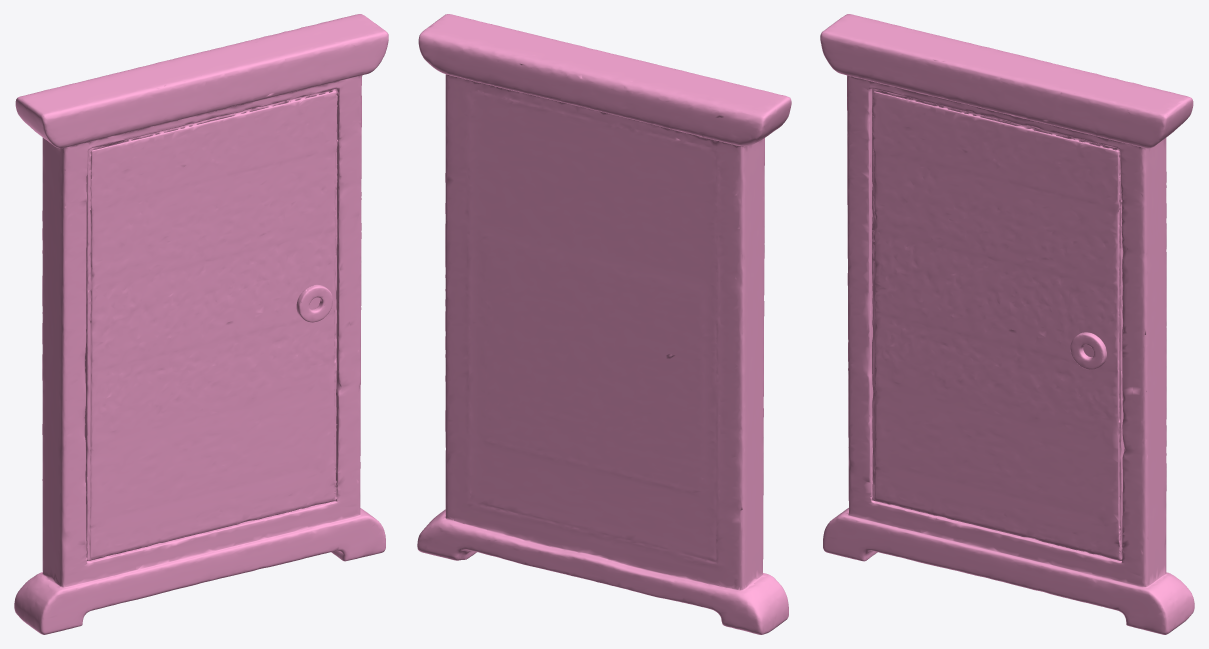
File: cdoor.glb
3 views of the same model, side by side, from view 1: azimuth 30°, elevation 25°; view 2: azimuth 150°, elevation 25°; view 3: azimuth 330°, elevation 25° (orthographic).
Parts seen in each view (by area): view 1: Mesh_0; view 2: Mesh_0; view 3: Mesh_0.
Part boxes in pixels (<box>): Mesh_0: <box>14,14,388,634</box>; Mesh_0: <box>417,14,791,634</box>; Mesh_0: <box>820,14,1194,634</box>.
Bounding box in the file's own units: 1.32 × 1.9 × 0.2233.
